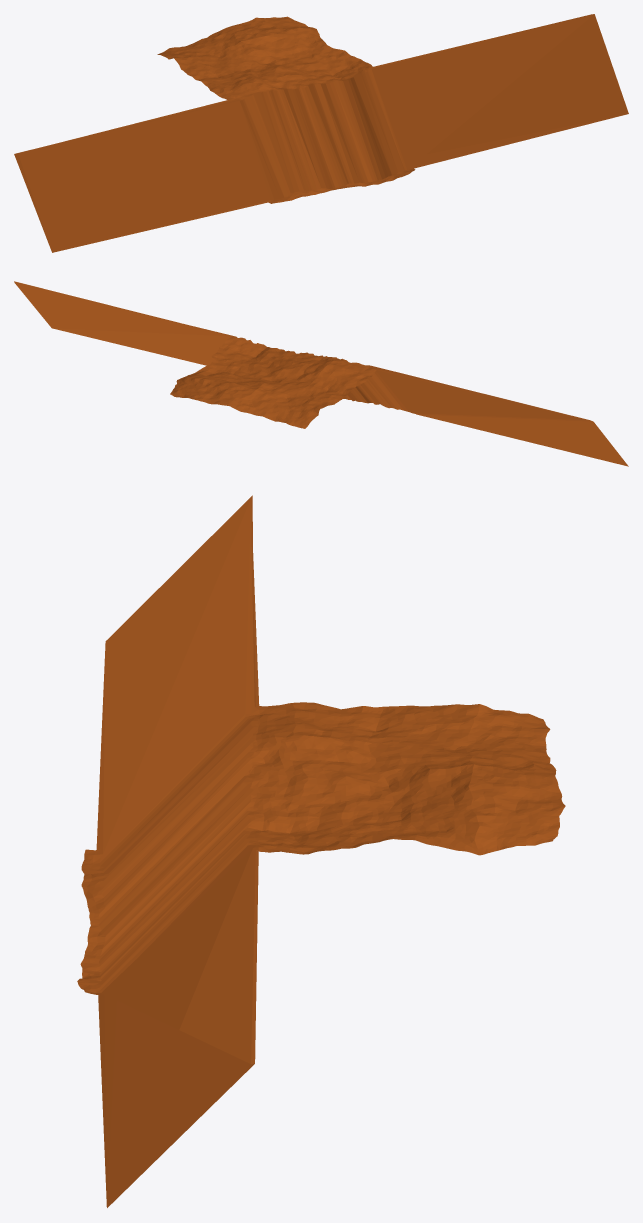
File: proxima_centauri_b_ground.fbx
3 views of the same model, one above another, from view 1: azimuth 30°, elevation 25°; view 2: azimuth 150°, elevation 25°; view 3: azimuth 270°, elevation 25° (orthographic). The views are drawn at different scales.
Parts seen in each view (by area): view 1: Environment_1; view 2: Environment_1; view 3: Environment_1.
Boxes of the visible parts, bbox=[...] form: Environment_1: bbox=[14, 14, 628, 252]; Environment_1: bbox=[14, 281, 628, 466]; Environment_1: bbox=[77, 495, 565, 1207].
Size of the model in its own units: 8313 by 1128 by 3032.
